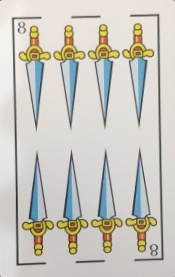8e: (11, 11, 160, 36)
